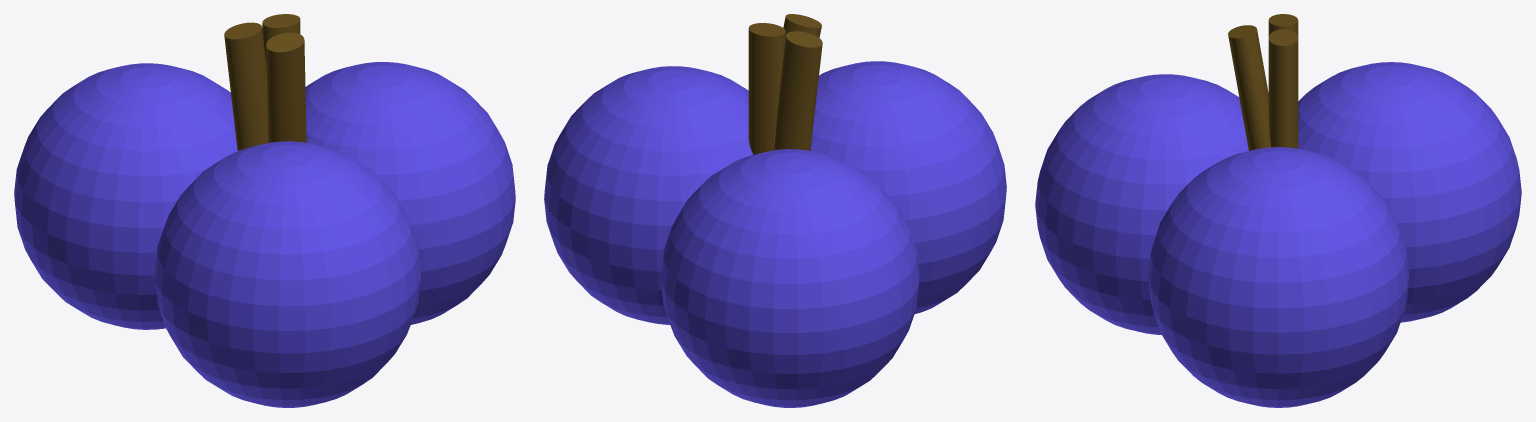
Rendered from coletavel2.fbx.
3 renders of one model, left to right at view 1: azimuth 30°, elevation 25°; view 2: azimuth 150°, elevation 25°; view 3: azimuth 270°, elevation 25°, orthographic. The views are drawn at different scales.
Parts seen in each view (by area): view 1: Sphere.001, Sphere.003, Sphere, Cylinder.001, Cylinder.002, Cylinder; view 2: Sphere.003, Sphere, Sphere.001, Cylinder.001, Cylinder, Cylinder.002; view 3: Sphere, Sphere.003, Sphere.001, Cylinder, Cylinder.002, Cylinder.001.
Part boxes in pixels (left/top/right/bottom): Sphere.001: left=154, top=141, right=420, bottom=407; Sphere.003: left=14, top=63, right=237, bottom=329; Sphere: left=305, top=62, right=515, bottom=324; Cylinder.001: left=224, top=22, right=268, bottom=150; Cylinder.002: left=266, top=32, right=306, bottom=142; Cylinder: left=262, top=14, right=300, bottom=65; Sphere.003: left=661, top=149, right=919, bottom=407; Sphere: left=544, top=66, right=753, bottom=324; Sphere.001: left=810, top=61, right=1006, bottom=313; Cylinder.001: left=774, top=31, right=822, bottom=150; Cylinder: left=748, top=23, right=785, bottom=154; Cylinder.002: left=783, top=14, right=821, bottom=37; Sphere: left=1148, top=147, right=1409, bottom=407; Sphere.003: left=1298, top=62, right=1521, bottom=322; Sphere.001: left=1035, top=74, right=1248, bottom=334; Cylinder: left=1268, top=29, right=1298, bottom=148; Cylinder.002: left=1228, top=25, right=1270, bottom=150; Cylinder.001: left=1268, top=14, right=1298, bottom=36.
Size of the model in its own units: 203 by 151 by 214.
